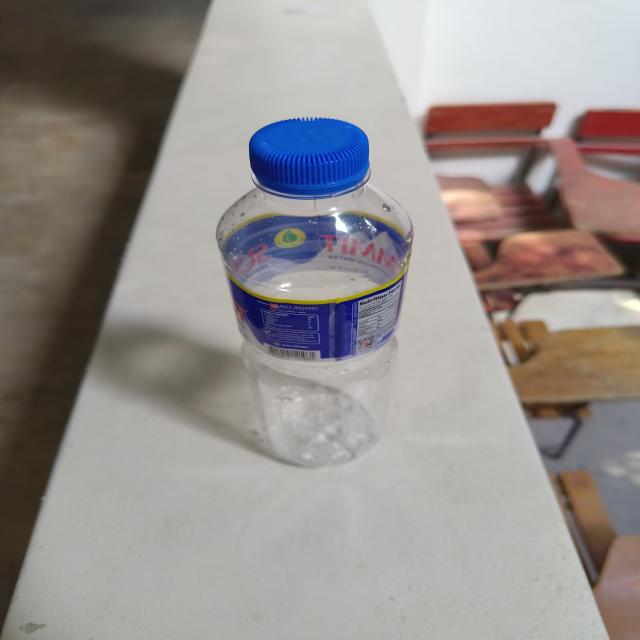Bottle: (216, 118, 414, 467)
